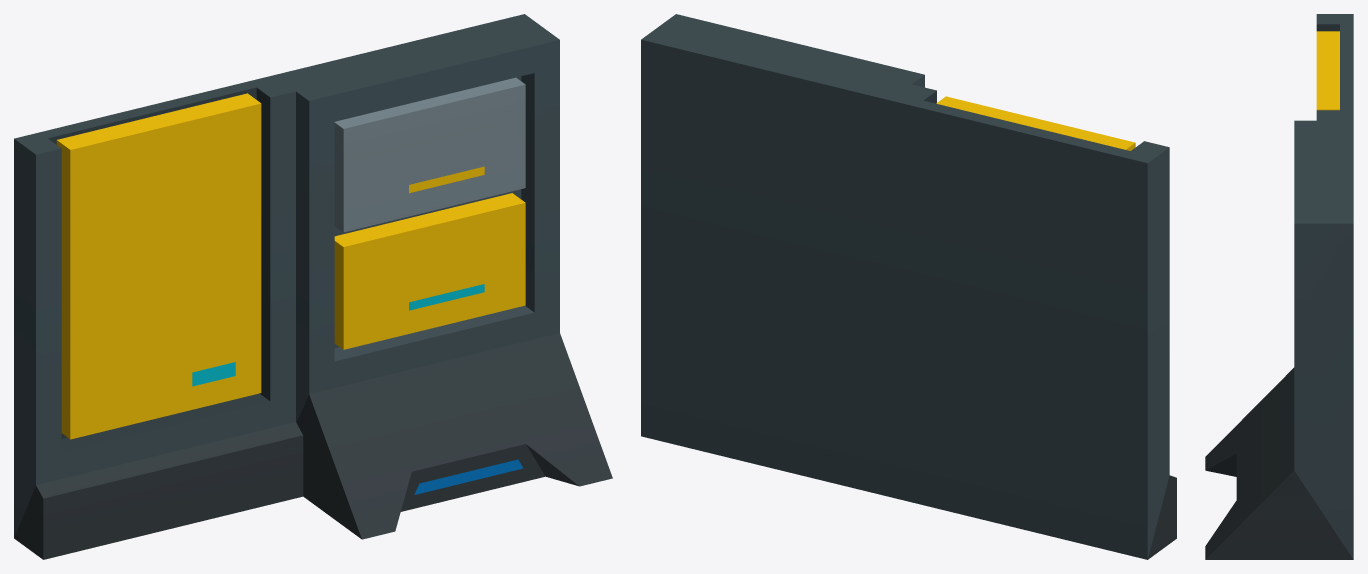
The model's file is Wall_type_C_038.fbx.
The picture shows the model from 3 angles, left to right: view 1: azimuth 30°, elevation 25°; view 2: azimuth 150°, elevation 25°; view 3: azimuth 270°, elevation 25°; orthographic projection. The views are drawn at different scales.
Visible parts, largest first — view 1: Wall_type_C_038; view 2: Wall_type_C_038; view 3: Wall_type_C_038.
Boxes of the visible parts, x1,y1,x2,y2 form: Wall_type_C_038: [14, 14, 612, 559]; Wall_type_C_038: [641, 14, 1176, 559]; Wall_type_C_038: [1205, 14, 1353, 559].
Size of the model in its own units: 201 by 60 by 150.
